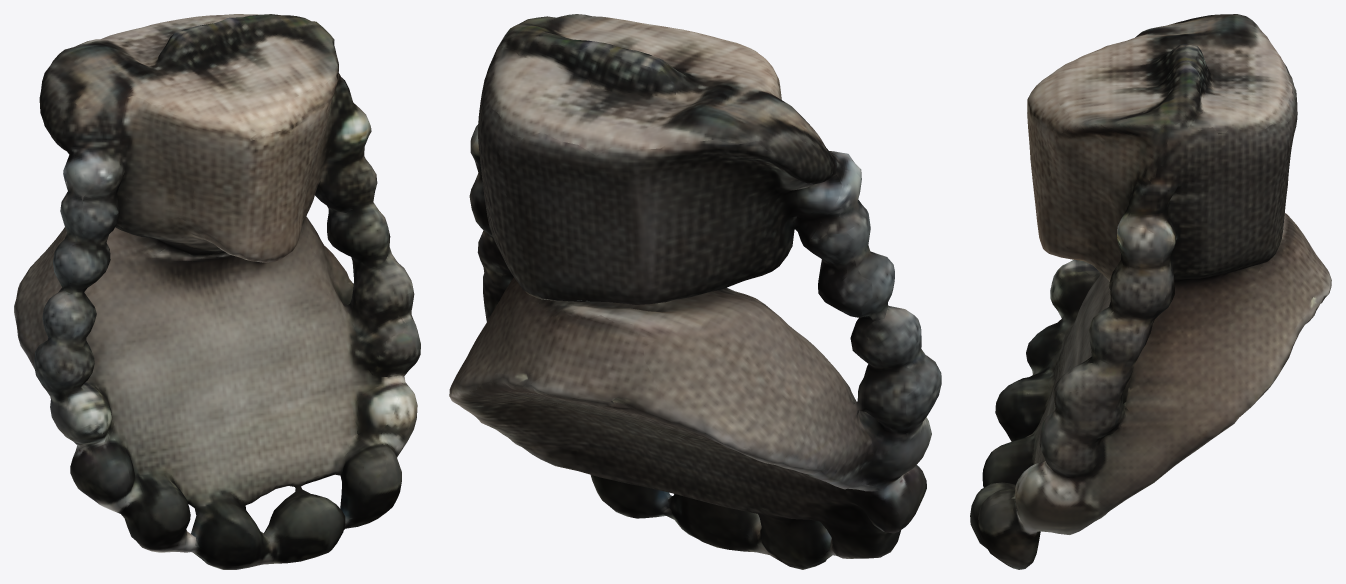
The model's file is brazaletex1.glb.
3 views of the same model, side by side, from view 1: azimuth 30°, elevation 25°; view 2: azimuth 150°, elevation 25°; view 3: azimuth 270°, elevation 25° (orthographic). The views are drawn at different scales.
Visible parts, largest first — view 1: mesh; view 2: mesh; view 3: mesh.
Boxes of the visible parts, x1,y1,x2,y2 form: mesh: (14,14,420,569); mesh: (449,14,941,569); mesh: (970,14,1331,569).
Bounding box in the file's own units: 1.38 × 1.71 × 1.15.
Materials: 1 (1 with a texture image).
